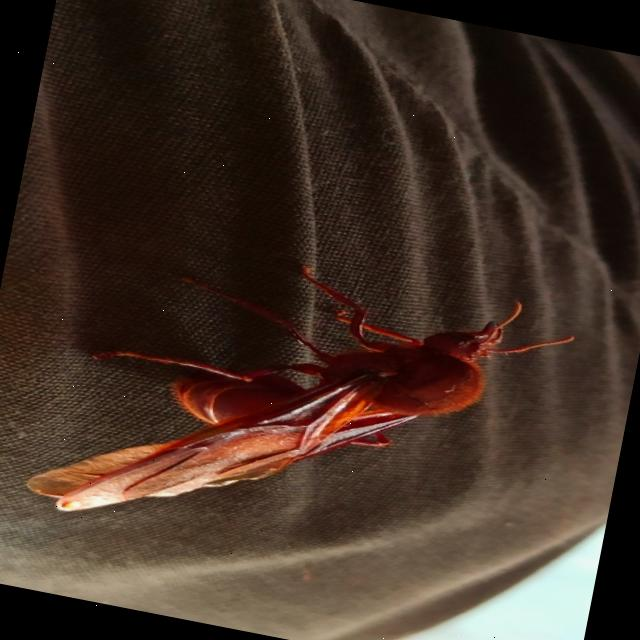Alive-Female-Alate: (20, 215, 582, 602)
